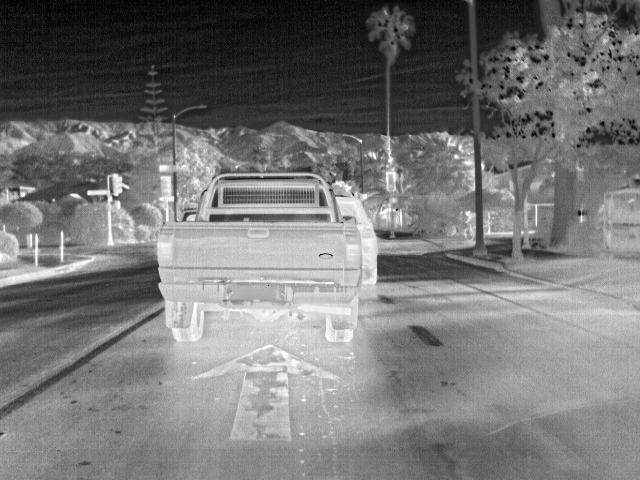car: (157, 172, 361, 342), (337, 197, 378, 285)
person: (461, 207, 476, 226)
